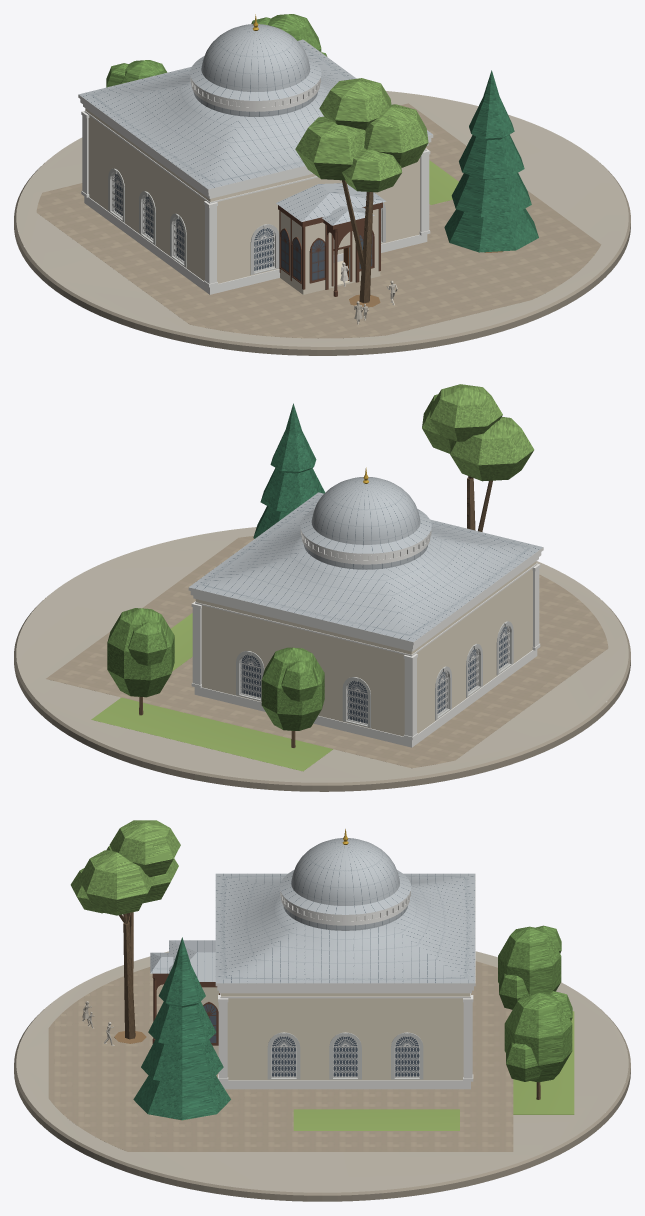
File: orhan-gazi-turbesi_v06_sunum.glb
3 views of the same model, one above another, from view 1: azimuth 30°, elevation 25°; view 2: azimuth 150°, elevation 25°; view 3: azimuth 270°, elevation 25° (orthographic).
Visible parts, largest first — view 1: Zemin_Doseme, Zemin_Kaide, Govde, Kubbe, Cevre_Agac_01, Cevre_Agac_04, Giris_Holu, Zemin_Cim, Cevre_Agac_02, Cevre_Agac_03; view 2: Zemin_Kaide, Govde, Kubbe, Zemin_Doseme, Cevre_Agac_01, Zemin_Cim, Cevre_Agac_02, Cevre_Agac_03, Cevre_Agac_04; view 3: Zemin_Doseme, Zemin_Kaide, Kubbe, Govde, Cevre_Agac_04, Cevre_Agac_01, Zemin_Cim, Cevre_Agac_02, Cevre_Agac_03, Giris_Holu.
Boxes of the visible parts, left/top/right/bottom form: Zemin_Doseme: left=36, top=103, right=601, bottom=338; Zemin_Kaide: left=14, top=91, right=630, bottom=355; Govde: left=78, top=94, right=433, bottom=294; Kubbe: left=79, top=14, right=432, bottom=189; Cevre_Agac_01: left=295, top=78, right=428, bottom=303; Cevre_Agac_04: left=444, top=70, right=538, bottom=252; Giris_Holu: left=276, top=183, right=386, bottom=296; Zemin_Cim: left=349, top=160, right=502, bottom=307; Cevre_Agac_02: left=251, top=14, right=327, bottom=56; Cevre_Agac_03: left=106, top=60, right=167, bottom=87; Zemin_Kaide: left=14, top=527, right=630, bottom=791; Govde: left=188, top=547, right=543, bottom=747; Kubbe: left=189, top=467, right=542, bottom=641; Zemin_Doseme: left=46, top=536, right=608, bottom=768; Cevre_Agac_01: left=422, top=384, right=534, bottom=531; Zemin_Cim: left=91, top=613, right=333, bottom=771; Cevre_Agac_02: left=107, top=608, right=174, bottom=715; Cevre_Agac_03: left=261, top=647, right=324, bottom=747; Cevre_Agac_04: left=253, top=403, right=325, bottom=538; Zemin_Doseme: left=48, top=961, right=513, bottom=1151; Zemin_Kaide: left=14, top=951, right=630, bottom=1201; Kubbe: left=215, top=829, right=475, bottom=983; Govde: left=215, top=874, right=475, bottom=1089; Cevre_Agac_04: left=133, top=937, right=230, bottom=1120; Cevre_Agac_01: left=70, top=820, right=180, bottom=1039; Zemin_Cim: left=114, top=1011, right=574, bottom=1130; Cevre_Agac_02: left=504, top=991, right=572, bottom=1099; Cevre_Agac_03: left=498, top=925, right=561, bottom=1009; Giris_Holu: left=150, top=940, right=220, bottom=1055.
Bounding box in the file's own units: 41.56 × 16.5 × 41.56.
31 materials, 10 textured.
